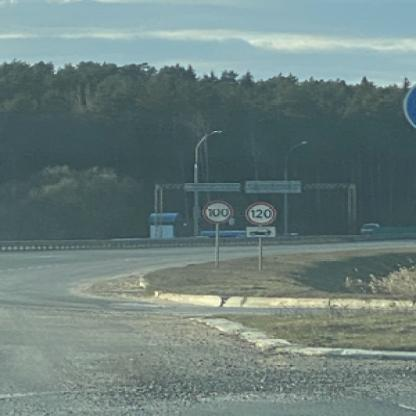Speed Limit 100: (202, 200, 234, 225)
Speed Limit 120: (247, 202, 277, 227)
